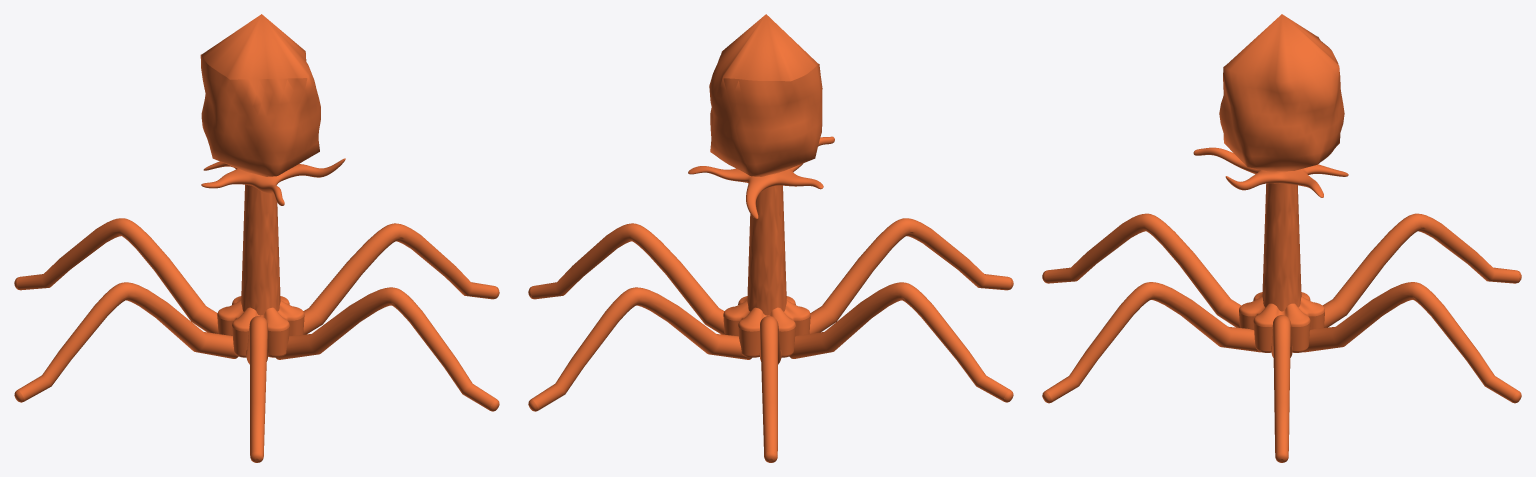
Rendered from phage.glb.
3 renders of one model, left to right at view 1: azimuth 30°, elevation 25°; view 2: azimuth 150°, elevation 25°; view 3: azimuth 270°, elevation 25°, orthographic.
Parts seen in each view (by area): view 1: Head, Head01, Tail Fiber.5, Tail Fiber.1, Tail Fiber.4, Tail Fiber.6, Sheath, Base Plate, Tail Fiber.2, Collar; view 2: Head, Head01, Tail Fiber.5, Tail Fiber.3, Tail Fiber.2, Tail Fiber.6, Sheath, Base Plate, Tail Fiber.4, Collar; view 3: Head01, Tail Fiber.3, Tail Fiber.1, Tail Fiber.4, Tail Fiber.2, Sheath, Base Plate, Tail Fiber.6, Collar.
Part boxes in pixels (x1,y1,x2,y2): Head: (200,54,307,176); Head01: (201,14,320,175); Tail Fiber.5: (14,282,238,402); Tail Fiber.1: (276,287,499,411); Tail Fiber.4: (14,218,218,333); Tail Fiber.6: (303,223,499,334); Sheath: (241,184,280,315); Base Plate: (217,296,304,357); Tail Fiber.2: (246,316,268,462); Collar: (201,158,345,205); Head: (723,63,822,176); Head01: (709,14,818,175); Tail Fiber.5: (789,282,1013,402); Tail Fiber.3: (528,287,751,411); Tail Fiber.2: (809,218,1013,333); Tail Fiber.6: (528,223,724,334); Sheath: (747,185,786,315); Base Plate: (723,296,810,357); Tail Fiber.4: (759,316,781,462); Collar: (688,136,834,219); Head01: (1219,14,1344,171); Tail Fiber.3: (1303,282,1521,403); Tail Fiber.1: (1042,282,1260,403); Tail Fiber.4: (1322,213,1521,327); Tail Fiber.2: (1042,213,1241,327); Sheath: (1262,183,1301,311); Base Plate: (1239,292,1324,352); Tail Fiber.6: (1271,315,1292,462); Collar: (1193,147,1348,197).
Bounding box in the file's own units: 6.89 × 4.66 × 6.
